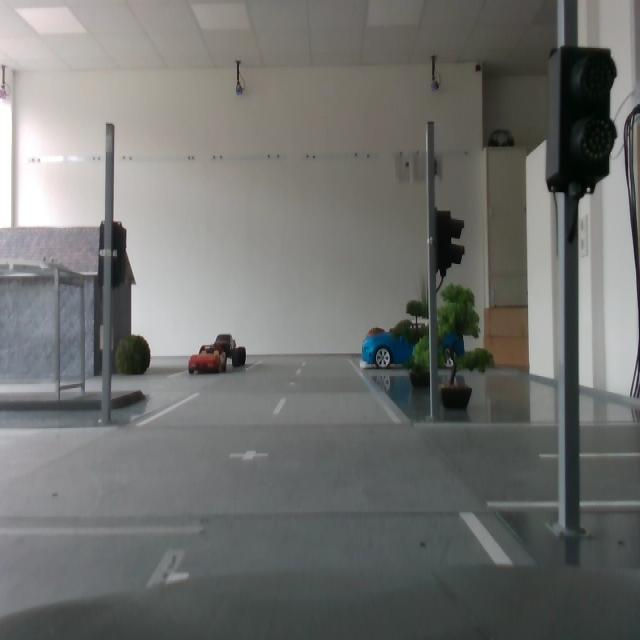car: (361, 322, 465, 369), (210, 334, 249, 369), (188, 344, 229, 376)
traffic light: (545, 44, 618, 197), (435, 209, 466, 278), (99, 221, 130, 290)
